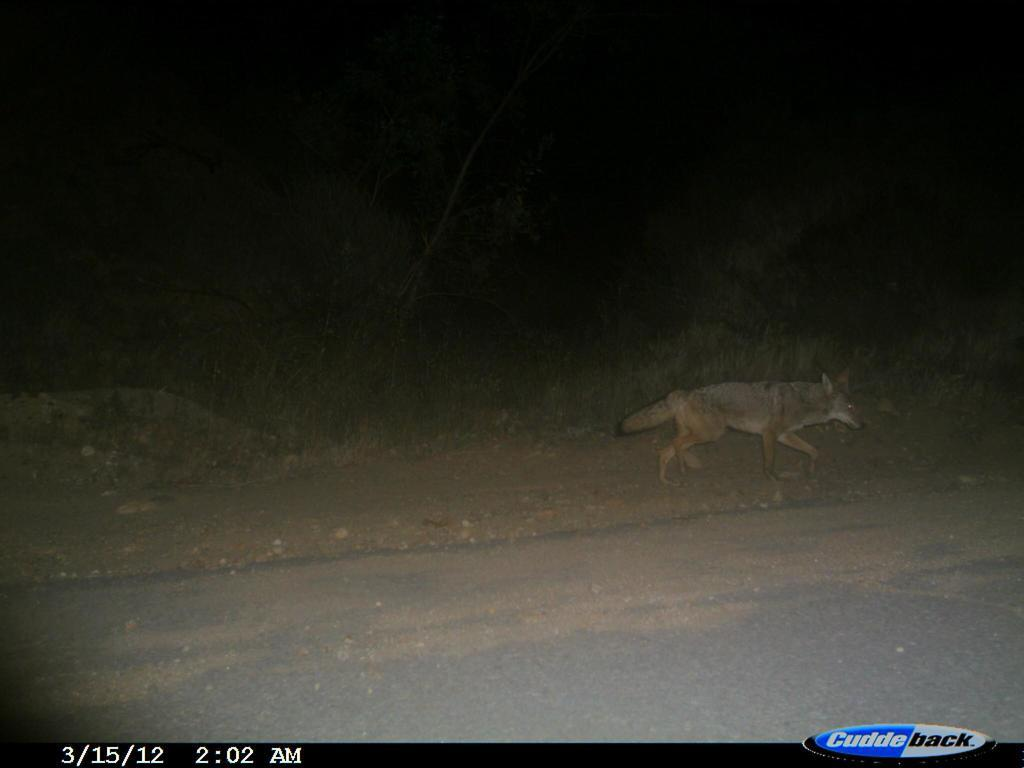coyote: (605, 363, 870, 497)
